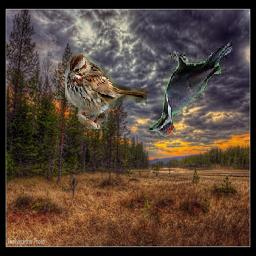Sparrow: (65, 51, 147, 129)
Woodpecker: (147, 41, 233, 138)
